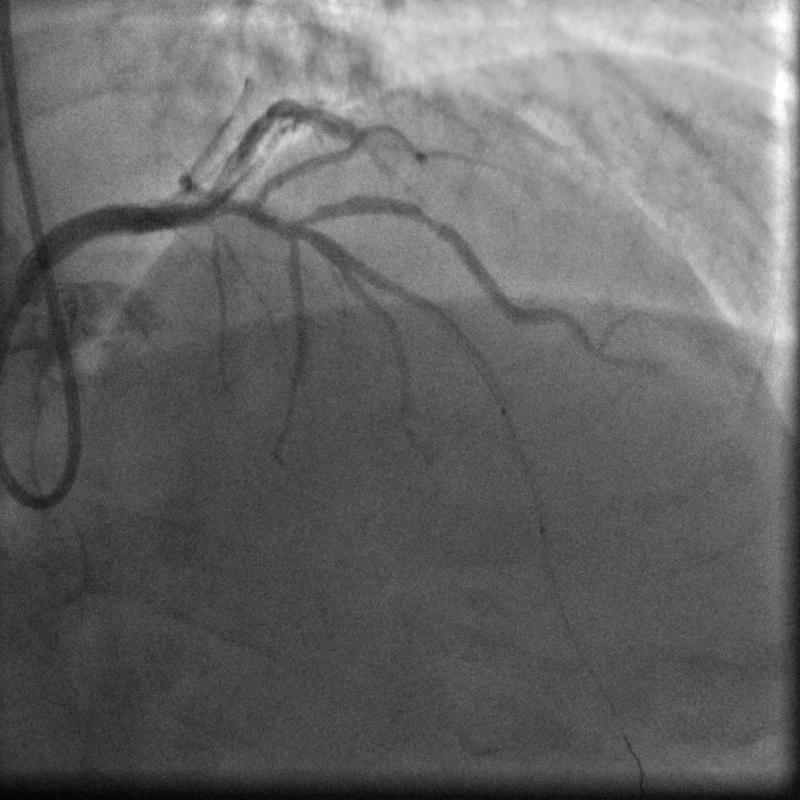Stenosis: (408, 197, 449, 239)
